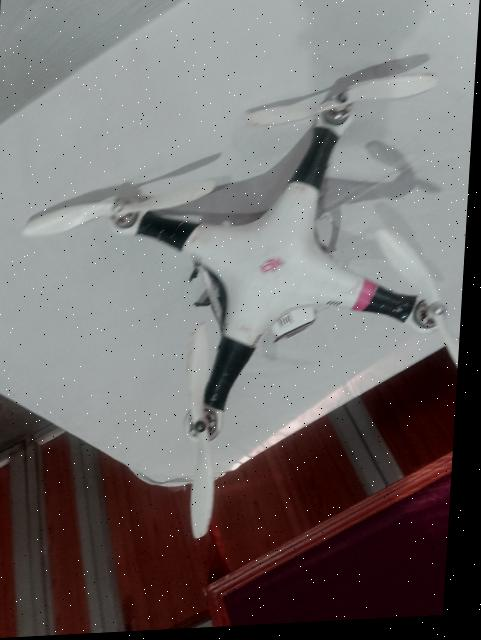drone: (0, 46, 478, 554)
